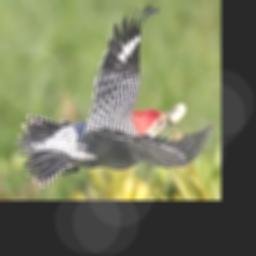Woodpecker: (15, 4, 213, 187)
